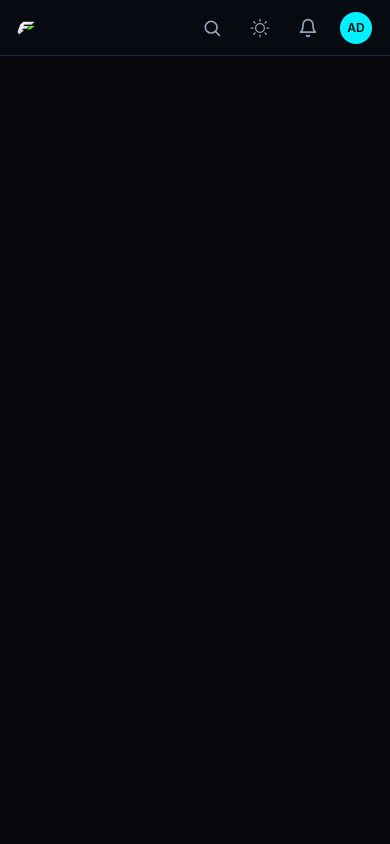
Test: MobileHeader › connecté : cloche avec badge et menu du compte en bottom sheet
Expected: the link named "Notifications" is shown, [298,18,318,38]
Click the button with aria-label "Ouvrir le menu du compte": x=356, y=28 [334,6,378,50]
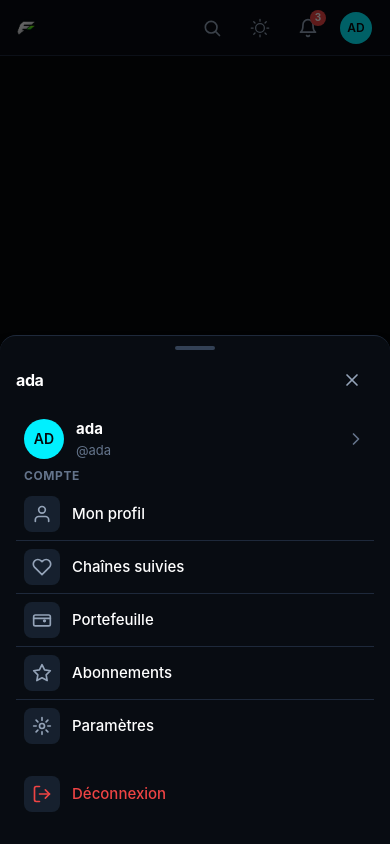
Expected: the dialog is shown
Expected: the link "Mon profil" is shown, [24,496,145,532]
Expected: the link "Portefeuille" is shown, [24,602,154,638]
